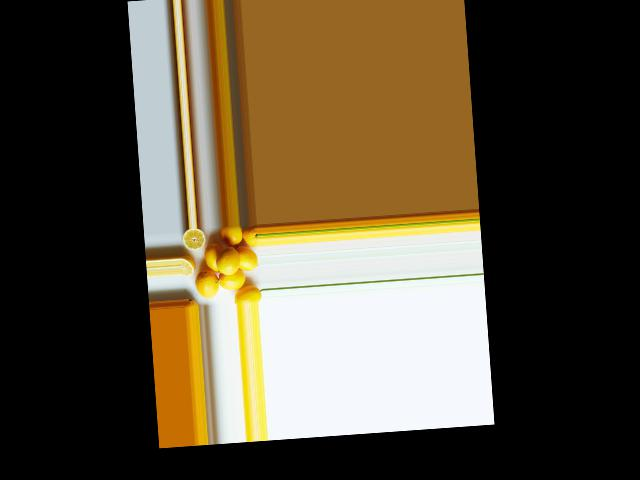lemon: (221, 225, 243, 246)
